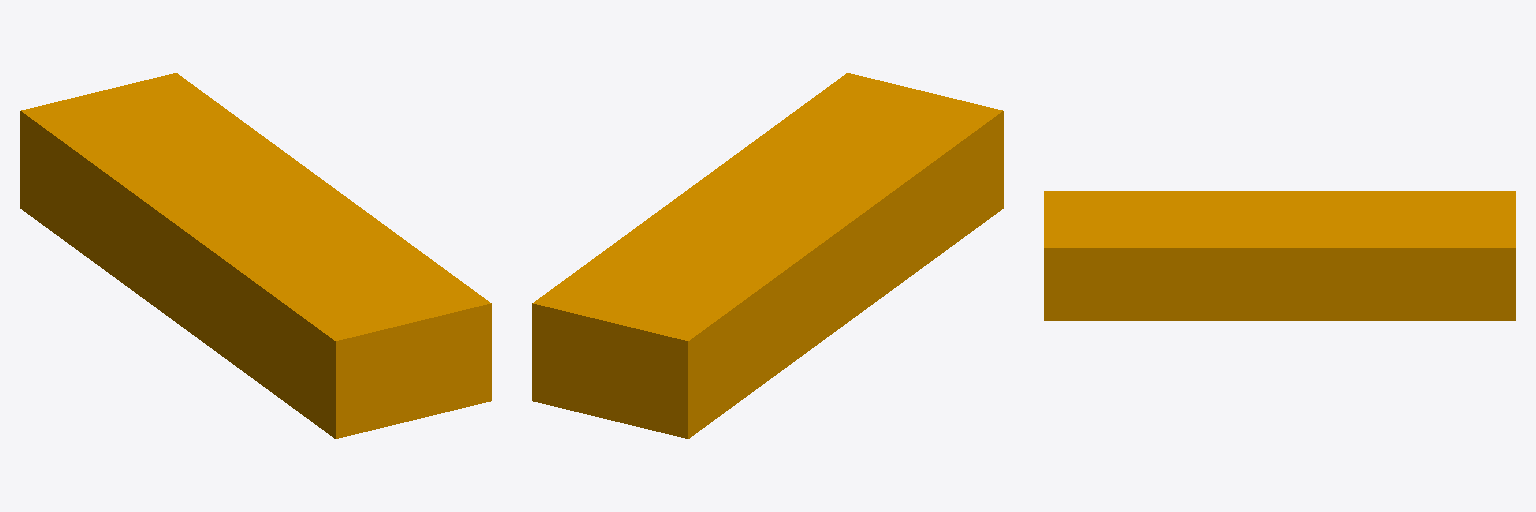
robot.urdf — box_small_6cm_height:
<?xml version="1.0"?>
<robot name="box_small_6cm_height">
  <link name="box_small_6cm_height">
    <inertial>
      <mass value="2.125"/>
      <!-- Inertia values were calculated to be consistent with the mass and
           geometry size, assuming a uniform density. -->
      <inertia ixx="0.0108" ixy="0" ixz="0" iyy="0.0083" iyz="0" izz="0.0042"/>
    </inertial>
    <visual>
      <geometry>
        <box size=".1 .35 .06"/>
      </geometry>
    </visual>
    <collision>
      <geometry>
        <box size=".1 .35 .06"/>
      </geometry>
    </collision>
  </link>
</robot>

--- Render facts (derived) ---
3 views of the same robot in one strip: view 1: azimuth 30°, elevation 25°; view 2: azimuth 150°, elevation 25°; view 3: azimuth 270°, elevation 25° (orthographic).
Robot: box_small_6cm_height — 1 links, 0 joints (none); root link box_small_6cm_height; default pose: every joint at zero.
Visible links, largest first — view 1: box_small_6cm_height; view 2: box_small_6cm_height; view 3: box_small_6cm_height.
Link boxes in pixels (x1,y1,x2,y2): box_small_6cm_height: [20, 73, 491, 438]; box_small_6cm_height: [532, 73, 1003, 438]; box_small_6cm_height: [1044, 191, 1515, 320].
Size in the robot's own frame: 0.1 by 0.35 by 0.06 metres.
Geometry: primitives only (box / cylinder / sphere), no mesh files.